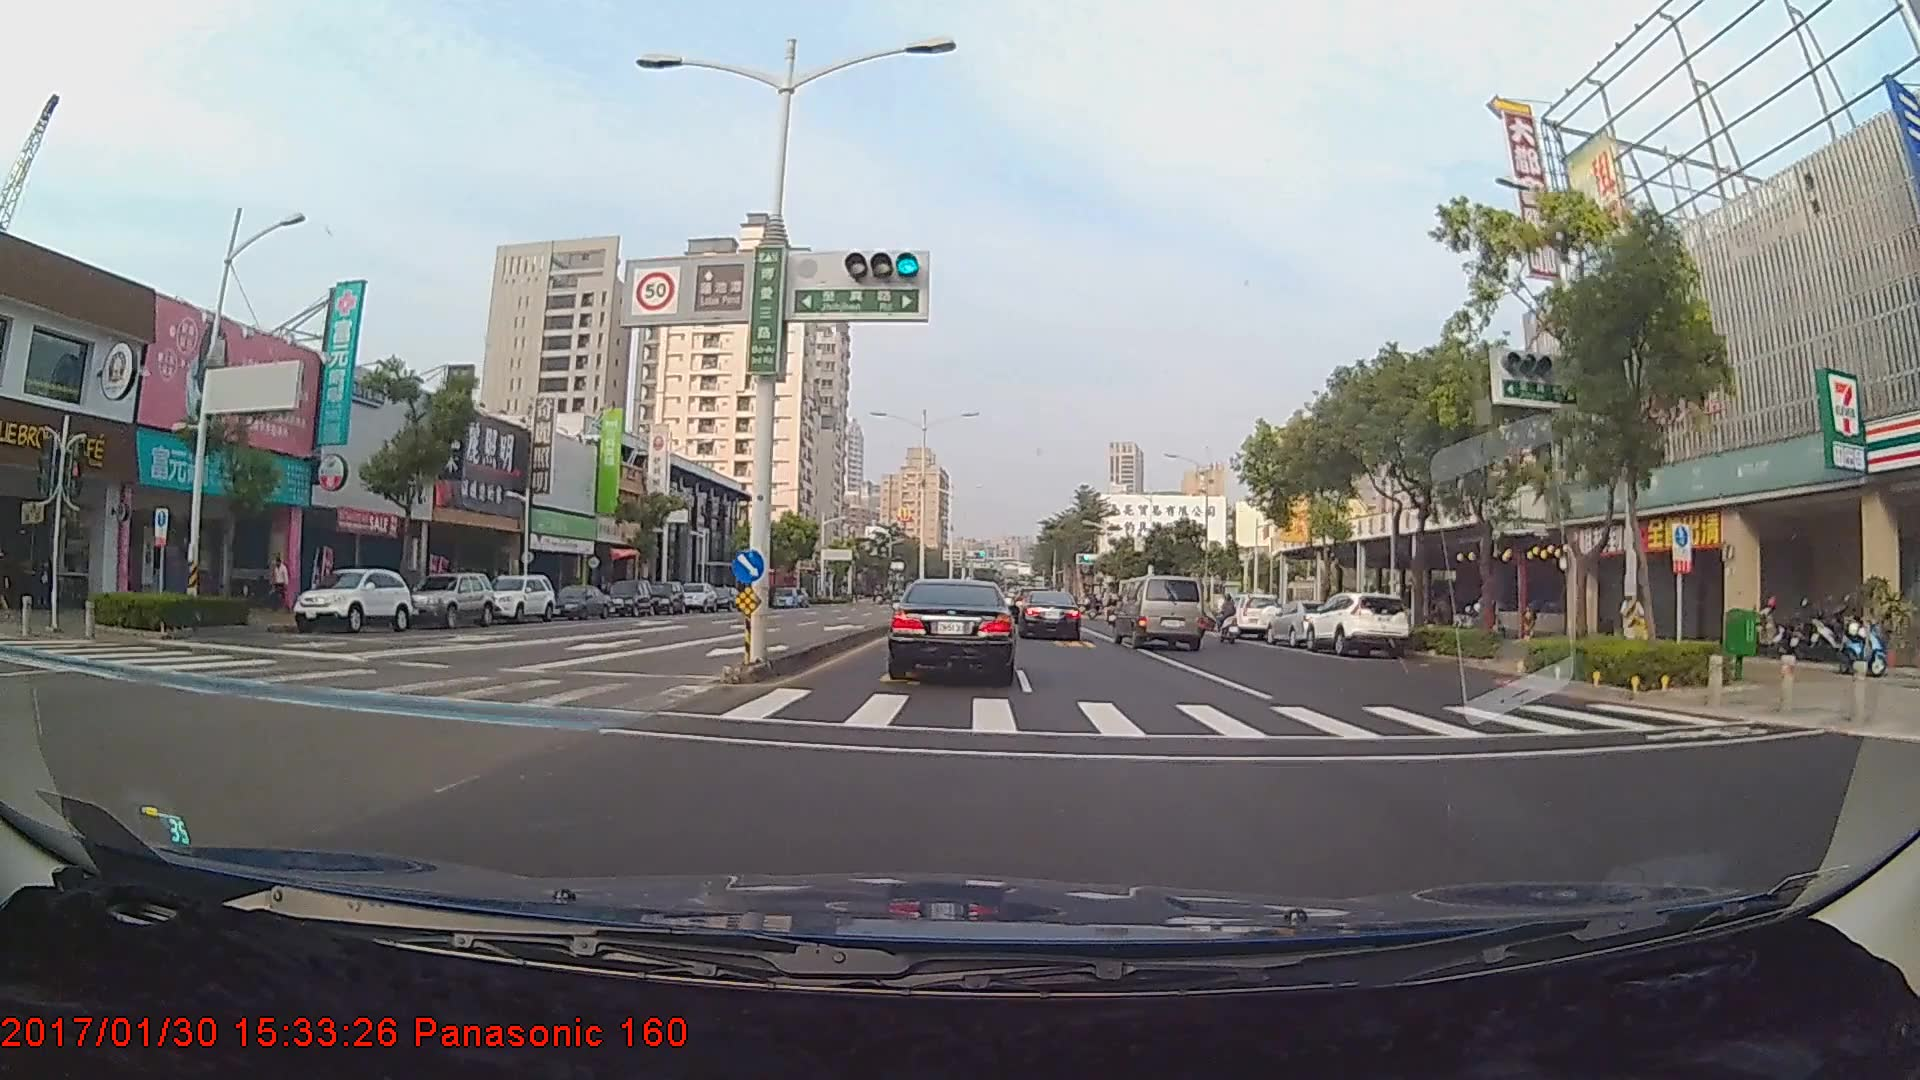pedestrian: (270, 556, 291, 615)
rider: (1211, 594, 1247, 644)
vehicle: (888, 575, 1014, 683), (287, 566, 411, 632), (1301, 588, 1413, 655), (1116, 574, 1202, 650), (395, 569, 493, 627), (480, 574, 558, 625), (1011, 590, 1082, 642), (1266, 598, 1341, 645), (544, 582, 610, 621), (1230, 593, 1282, 640), (603, 579, 654, 618), (641, 582, 684, 616), (676, 582, 719, 614)
